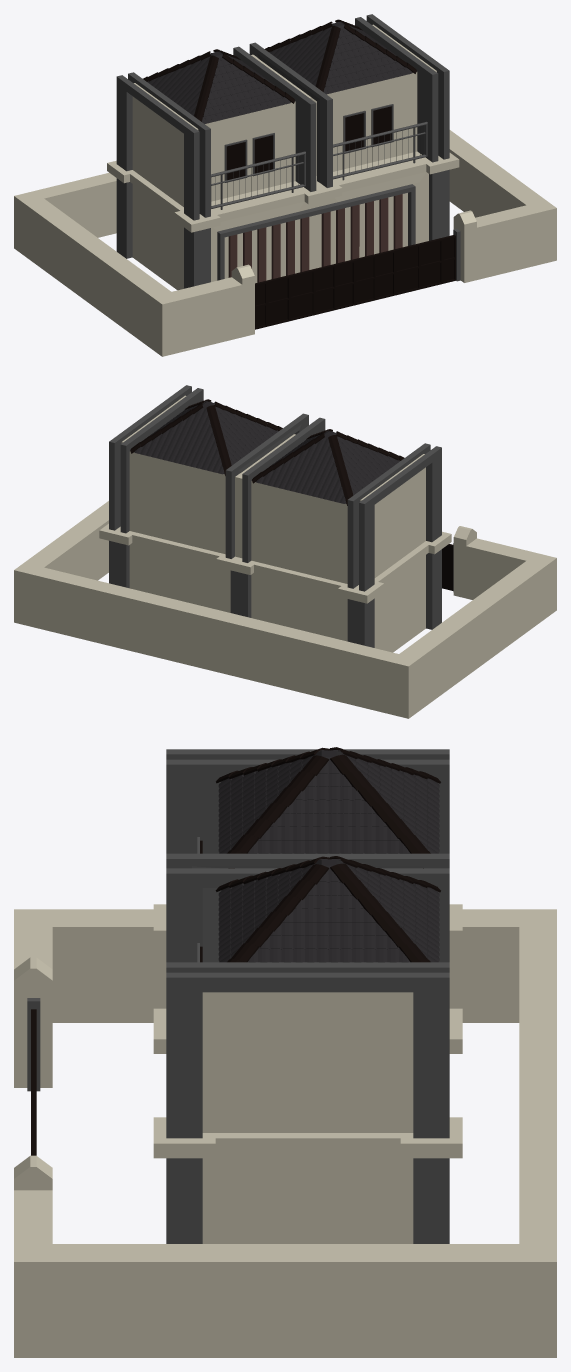
Rendered from rumah mc gerbang 6.fbx.
3 views of the same model, one above another, from view 1: azimuth 30°, elevation 25°; view 2: azimuth 150°, elevation 25°; view 3: azimuth 270°, elevation 25° (orthographic). The views are drawn at different scales.
Visible parts, largest first — view 1: Plane, Plane.013, Plane.012, Plane.015, Plane.009, Plane.027, Plane.011, Plane.017, Plane.004, Plane.016, Plane.006, Plane.019 (+4 smaller); view 2: Plane.013, Plane, Plane.012, Plane.027, Plane.020, Plane.007, Plane.019, Plane.006, Plane.008, Plane.021, Plane.015; view 3: Plane.013, Plane, Plane.027, Plane.012, Plane.018, Plane.005, Plane.021, Plane.008, Plane.004, Plane.017, Plane.020, Plane.007 (+2 smaller).
Boxes of the visible parts, x1,y1,x2,y2 form: Plane: (107,24,459,290); Plane.013: (14,130,556,356); Plane.012: (116,42,332,288); Plane.015: (255,234,455,329); Plane.009: (228,194,402,282); Plane.027: (355,14,449,240); Plane.011: (224,104,393,182); Plane.017: (323,28,412,94); Plane.004: (202,58,290,123); Plane.016: (217,184,415,280); Plane.006: (147,56,210,115); Plane.019: (269,27,331,86); Plane.013: (14,501,556,718); Plane: (99,395,451,652); Plane.012: (225,413,441,647); Plane.027: (109,385,203,588); Plane.020: (134,408,224,474); Plane.007: (256,438,345,503); Plane.019: (215,406,278,465); Plane.006: (337,436,399,495); Plane.008: (252,429,404,505); Plane.021: (130,399,282,475); Plane.015: (442,544,453,590); Plane.013: (14,909,556,1357); Plane: (153,904,462,1243); Plane.027: (166,962,449,1243); Plane.012: (166,749,449,962); Plane.018: (248,868,409,962); Plane.005: (248,760,410,853); Plane.021: (215,856,440,962); Plane.008: (216,747,440,868); Plane.004: (218,755,314,853); Plane.017: (218,864,314,962); Plane.020: (342,862,439,962); Plane.007: (343,754,439,853).
Size of the model in its own units: 2600 by 1304 by 1691.
